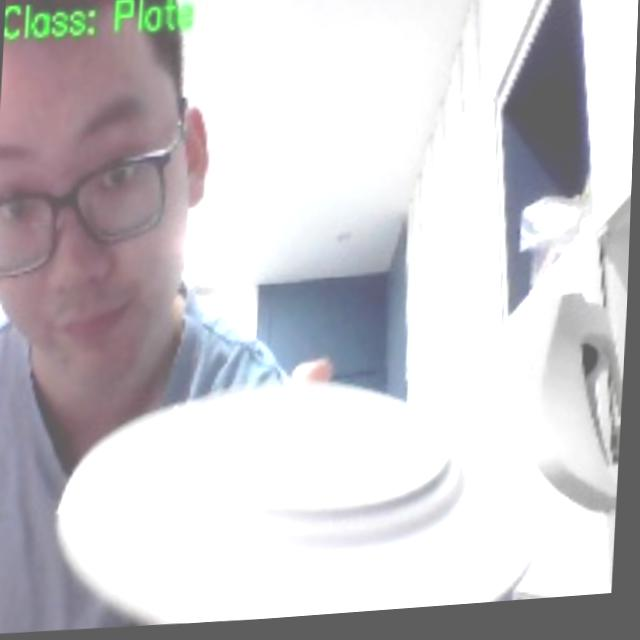Plate: (57, 382, 533, 625)
